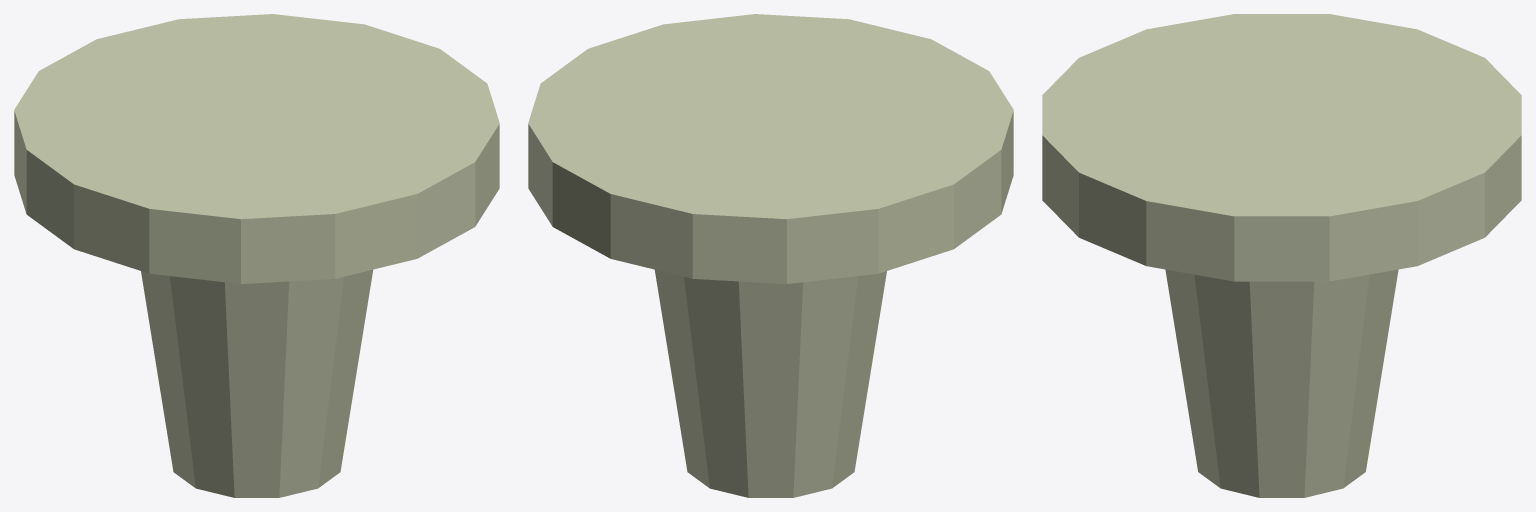
Rendered from ALV_3_Engine_1_Collider.obj.
3 views of the same model, side by side, from view 1: azimuth 30°, elevation 25°; view 2: azimuth 150°, elevation 25°; view 3: azimuth 270°, elevation 25° (orthographic).
Visible parts, largest first — view 1: ALV_3_Engine_1_Collider1, ALV_3_Engine_1_Collider2; view 2: ALV_3_Engine_1_Collider1, ALV_3_Engine_1_Collider2; view 3: ALV_3_Engine_1_Collider1, ALV_3_Engine_1_Collider2.
Boxes of the visible parts, left/top/right/bottom form: ALV_3_Engine_1_Collider1: left=14, top=14, right=499, bottom=283; ALV_3_Engine_1_Collider2: left=141, top=269, right=373, bottom=497; ALV_3_Engine_1_Collider1: left=528, top=14, right=1013, bottom=283; ALV_3_Engine_1_Collider2: left=654, top=269, right=886, bottom=497; ALV_3_Engine_1_Collider1: left=1042, top=14, right=1521, bottom=281; ALV_3_Engine_1_Collider2: left=1165, top=269, right=1398, bottom=497.
Bounding box in the file's own units: 2.5 × 2 × 2.5.
